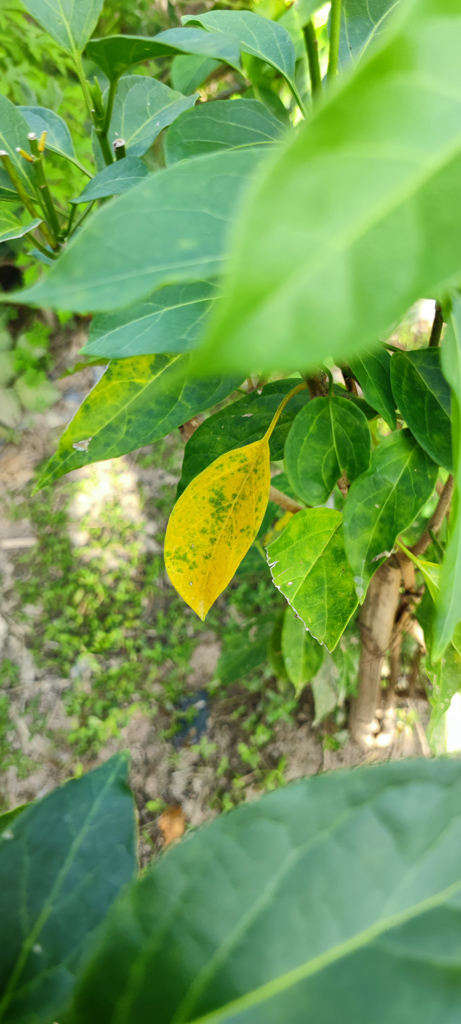Pepper yellow leaf: (154, 434, 282, 623)
